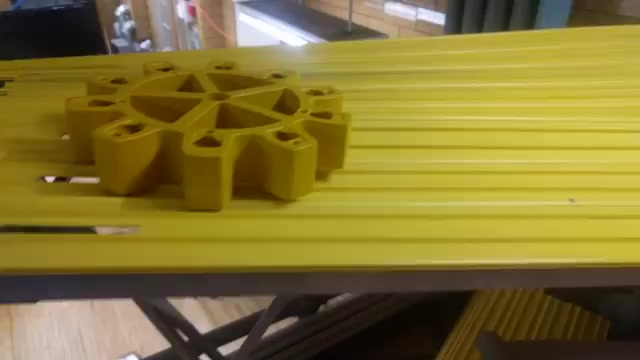gear: (57, 49, 346, 205)
